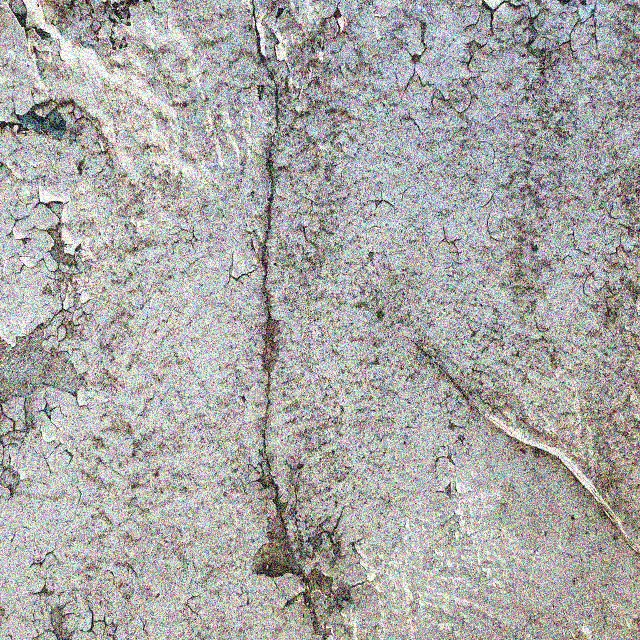SurfaceCrack: (203, 0, 359, 639)
